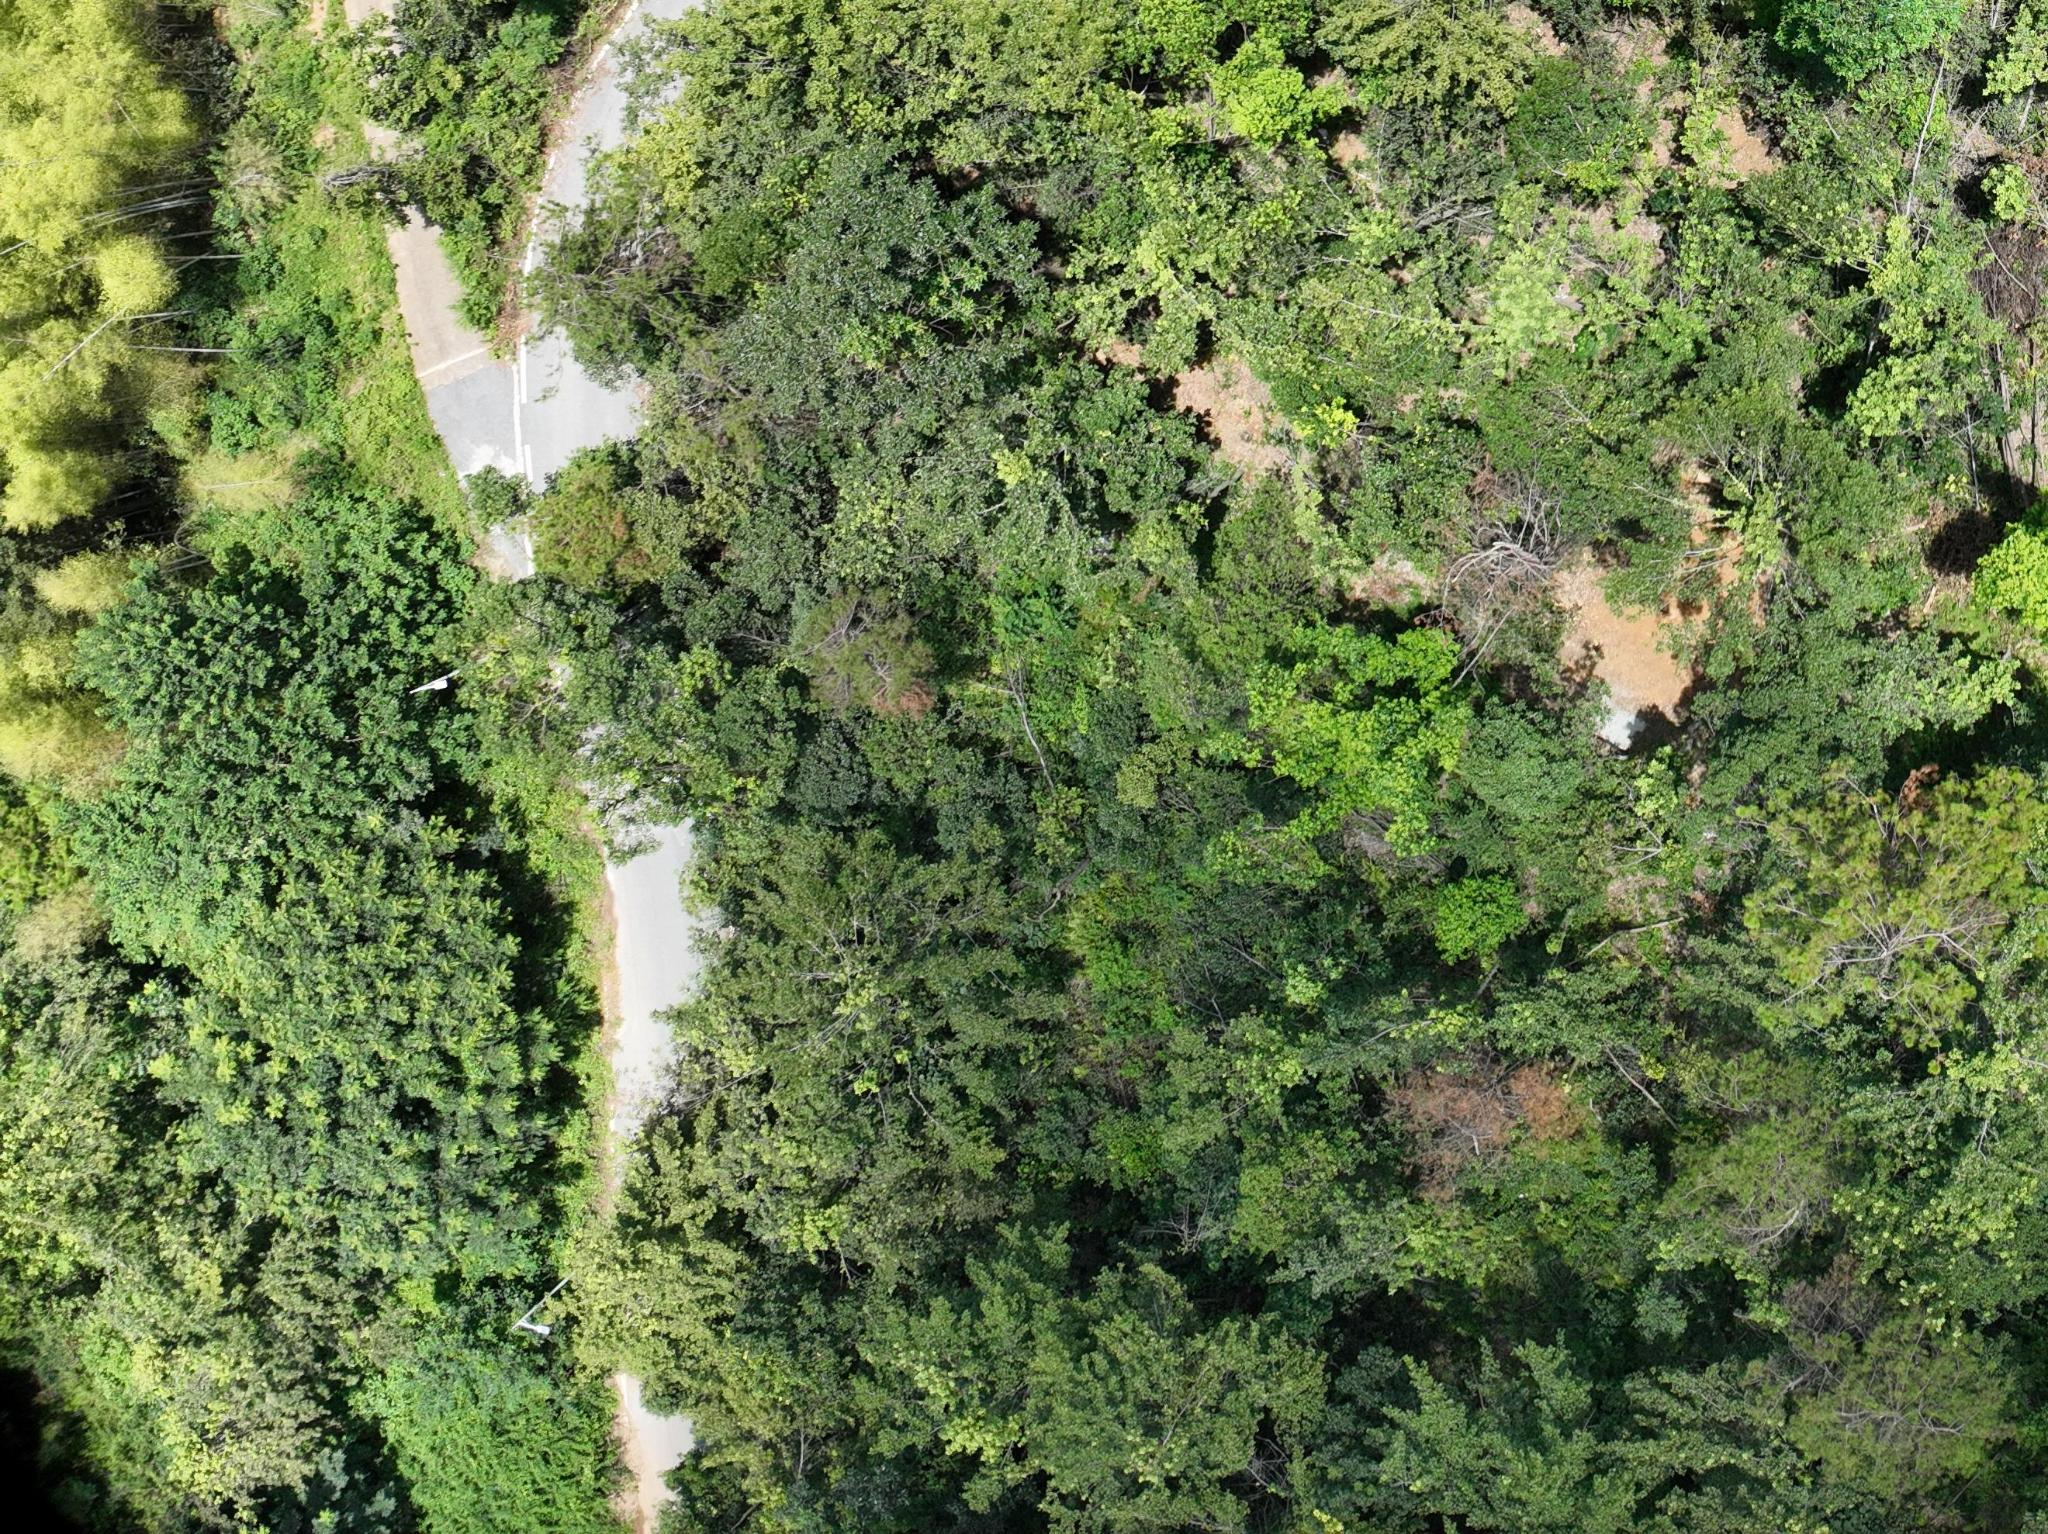heavy: (1383, 1046, 1582, 1202)
